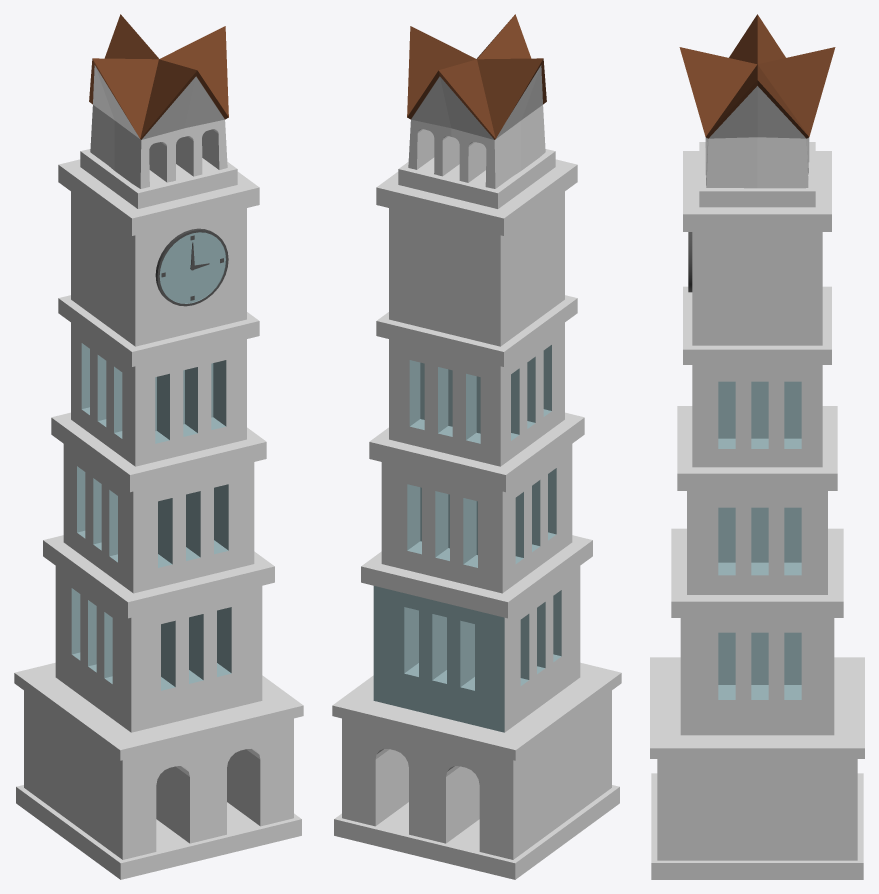
The model's file is PADANG.fbx.
3 renders of one model, left to right at view 1: azimuth 30°, elevation 25°; view 2: azimuth 150°, elevation 25°; view 3: azimuth 270°, elevation 25°, orthographic.
Parts seen in each view (by area): view 1: Cube, Cube.001, Cube.002, Cube.003, Cylinder; view 2: Cube, Cube.001, Cube.002, Cube.003; view 3: Cube, Cube.001, Cube.002, Cube.003.
Boxes of the visible parts, <box> form: Cube: <box>43,149,274,732</box>; Cube.001: <box>14,662,303,859</box>; Cube.002: <box>89,14,228,188</box>; Cube.003: <box>16,785,301,879</box>; Cylinder: <box>155,228,228,306</box>; Cube: <box>361,149,592,732</box>; Cube.001: <box>332,662,621,859</box>; Cube.002: <box>407,14,546,188</box>; Cube.003: <box>334,785,619,879</box>; Cube: <box>671,142,843,735</box>; Cube.001: <box>650,657,864,860</box>; Cube.002: <box>679,14,835,188</box>; Cube.003: <box>651,773,863,879</box>.
Bounding box in the file's own units: 124 × 502 × 124.
